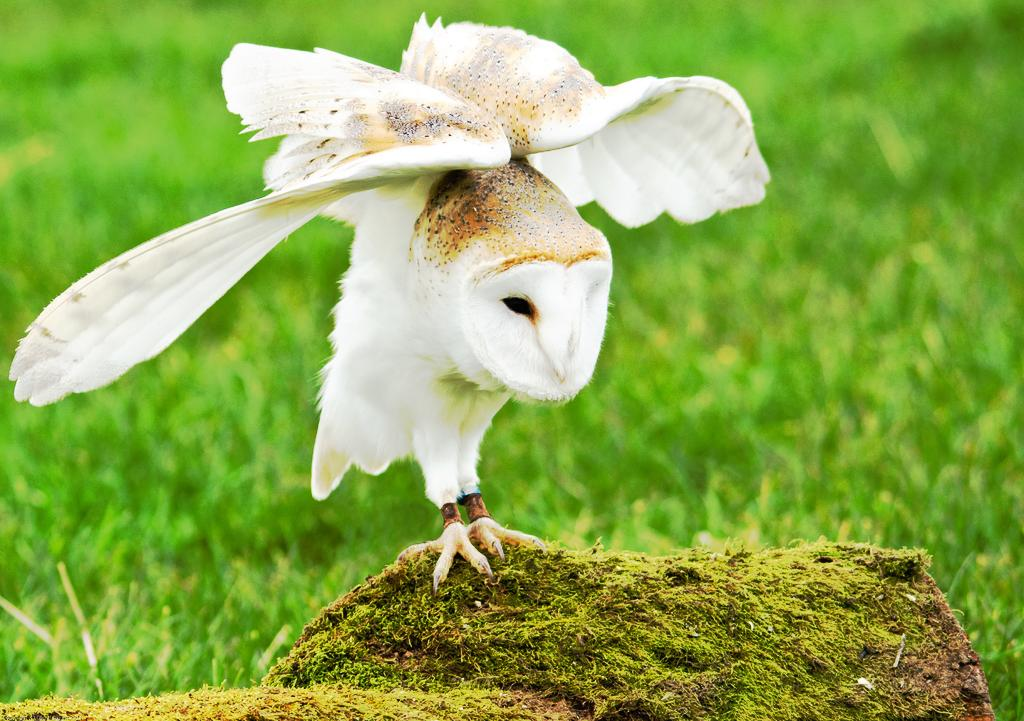Owl: (14, 12, 774, 602)
